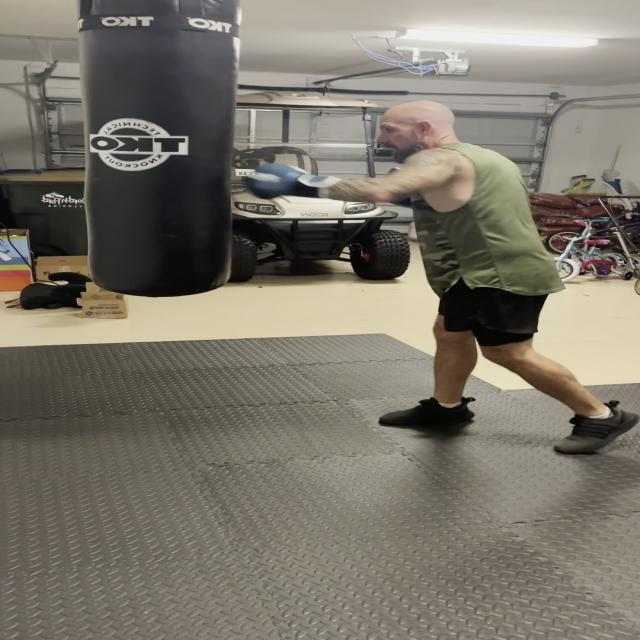bag: (62, 1, 246, 296)
cross: (214, 64, 540, 226)
